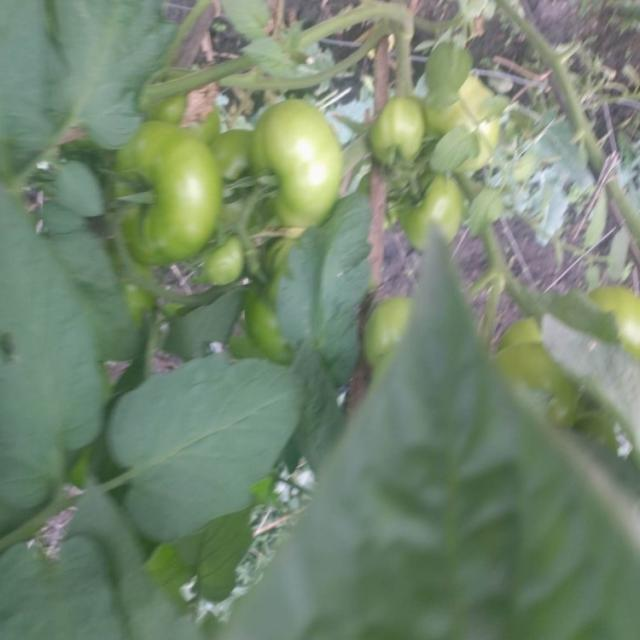tomato: (107, 111, 241, 300), (247, 96, 347, 222), (208, 120, 285, 236), (435, 80, 509, 180), (353, 91, 431, 177), (574, 261, 640, 356), (187, 217, 257, 294), (406, 174, 474, 247), (133, 67, 200, 135), (359, 295, 434, 353)
